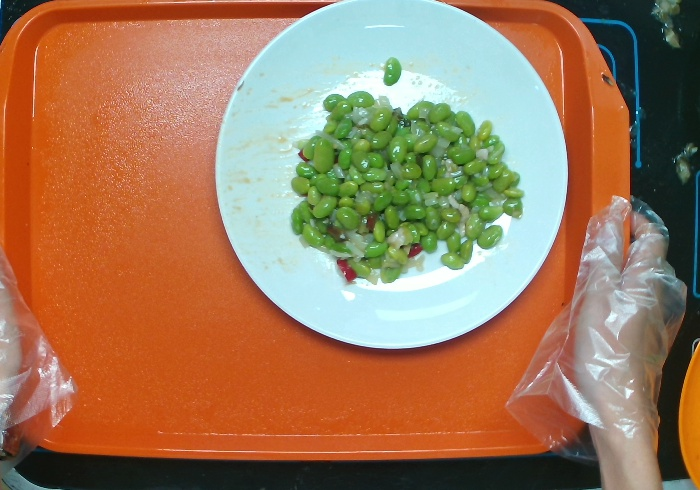HZYJPL-Bai_Se_Yuan_Pan: (199, 1, 572, 371)
